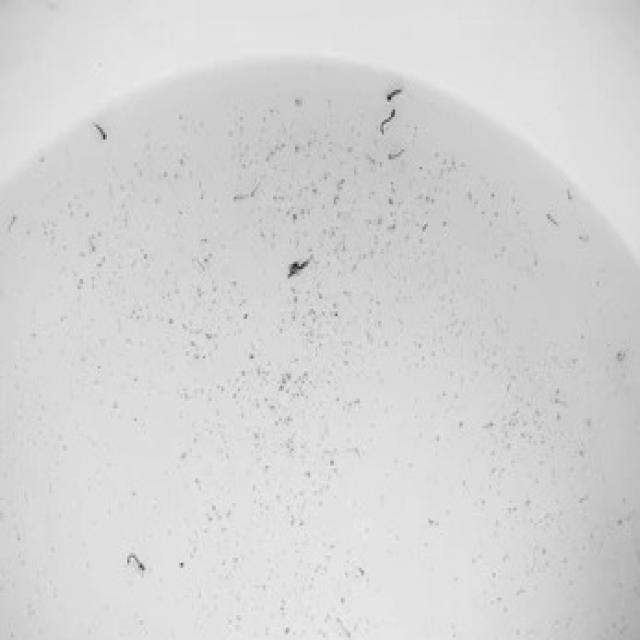larvas: (380, 107, 395, 135), (126, 557, 145, 572), (389, 150, 411, 162), (95, 123, 109, 141), (386, 90, 401, 100)
